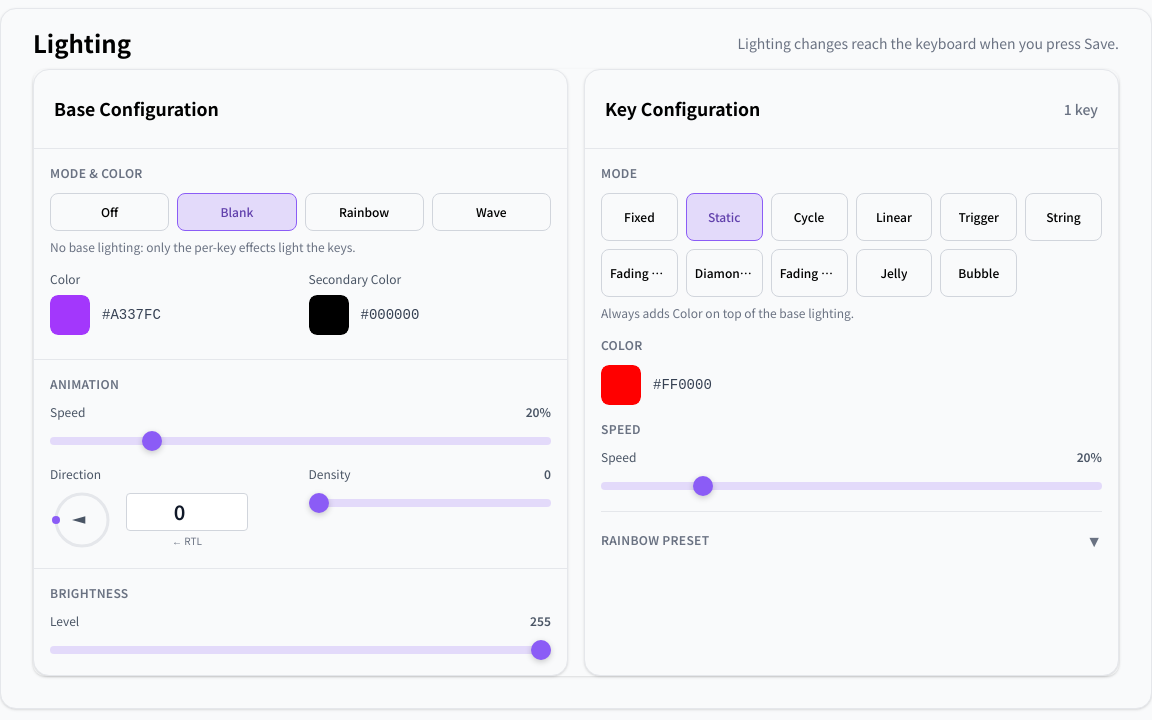
it: LightingPage › device loads (profile switches, resets) › drops unsaved edits and shows the new configuration in both panels
Click the button "Wave" at point(491, 212), box [432,193,551,231]
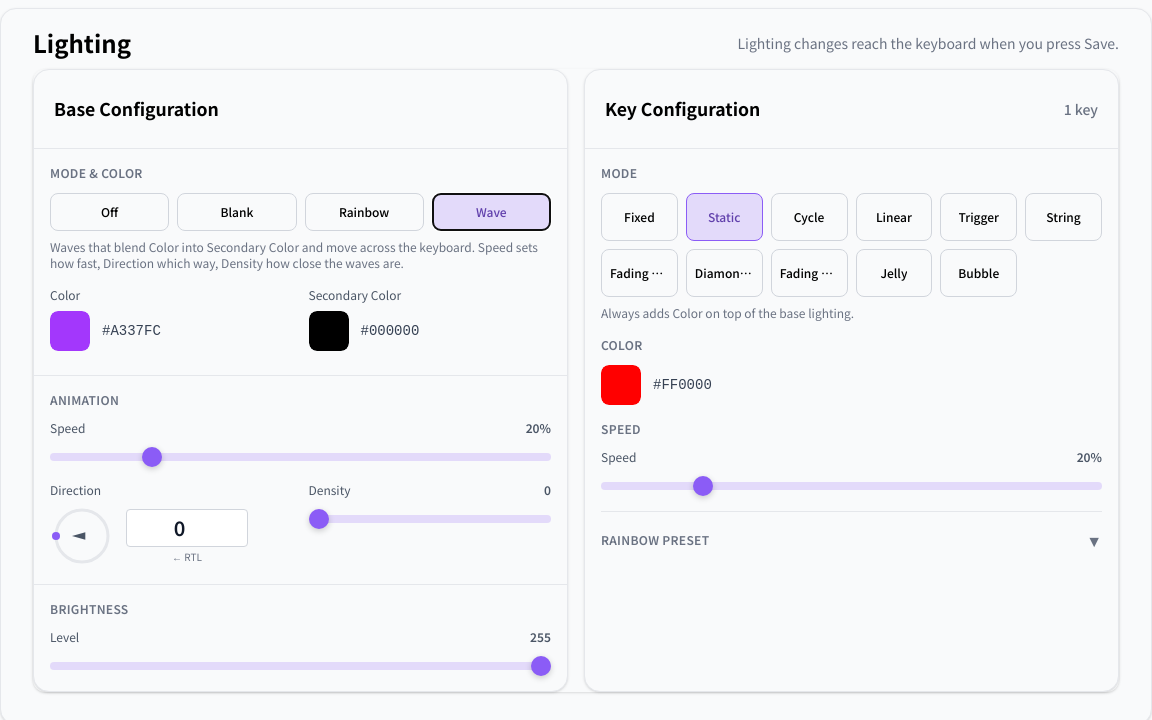
Click the button "Bubble" at point(979, 273), box [940,249,1017,297]
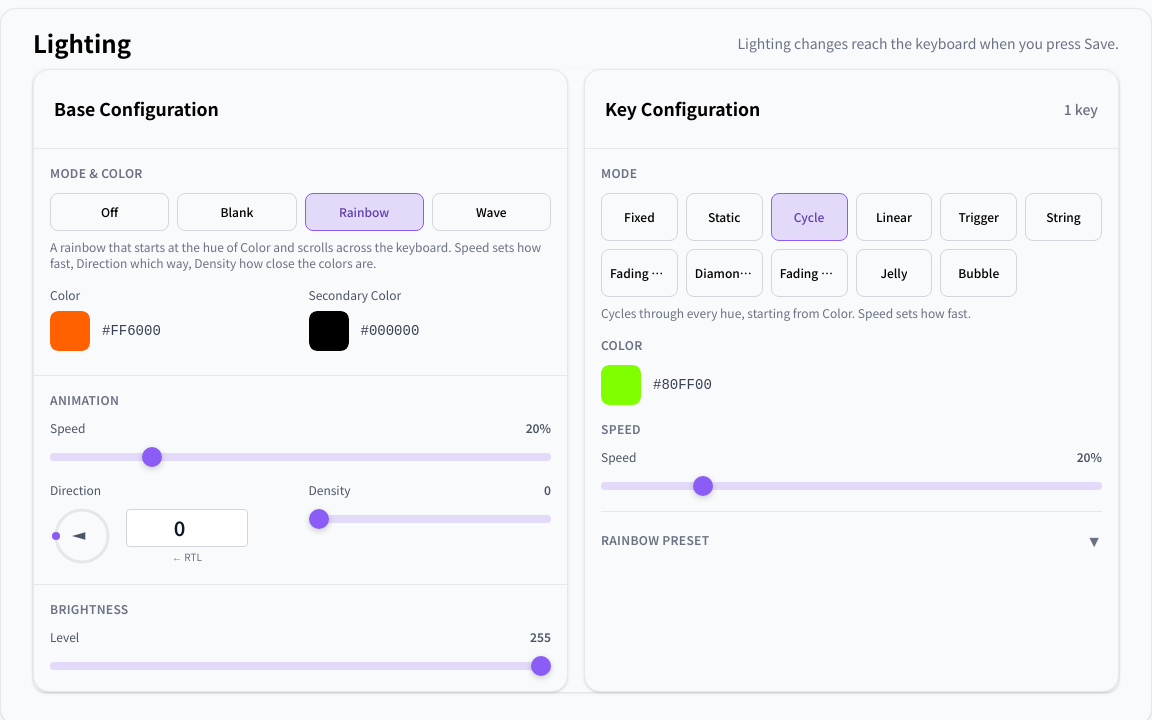
Expected: the colour field labelled "Color #ff6000" holds "#ff6000", [50,311,90,351]
Expected: the colour field named "Color" holds "#80ff00", [601,365,641,405]
